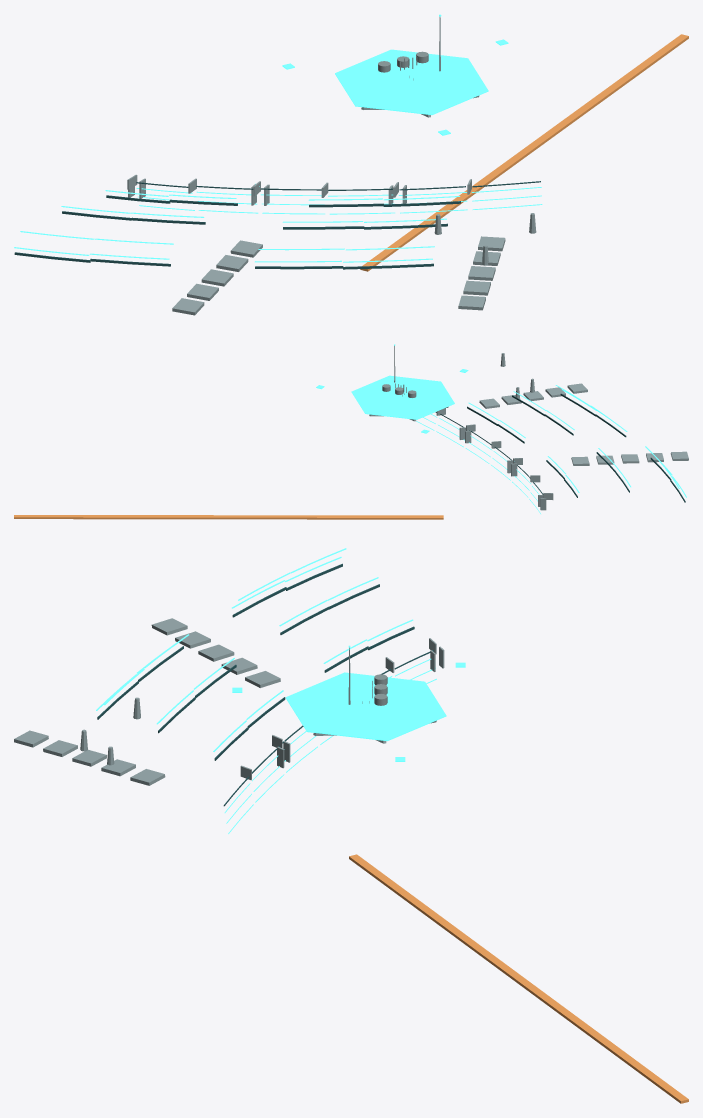
The model's file is Weather_Lung_Sector_07_Dressing.glb.
3 views of the same model, one above another, from view 1: azimuth 30°, elevation 25°; view 2: azimuth 150°, elevation 25°; view 3: azimuth 270°, elevation 25° (orthographic). The views are drawn at different scales.
Visible parts, largest first — view 1: Weather_Lung_Sector_07_Dressing; view 2: Weather_Lung_Sector_07_Dressing; view 3: Weather_Lung_Sector_07_Dressing.
Boxes of the visible parts, <box> form: Weather_Lung_Sector_07_Dressing: <box>14,14,688,315</box>; Weather_Lung_Sector_07_Dressing: <box>14,344,688,519</box>; Weather_Lung_Sector_07_Dressing: <box>14,548,688,1103</box>.
Bounding box in the file's own units: 9827 × 2679 × 6555.
